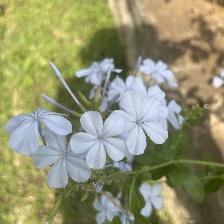chitrak: (69, 110, 131, 171), (5, 104, 74, 156), (35, 127, 93, 186), (114, 92, 167, 156), (90, 189, 125, 224), (137, 180, 166, 219), (80, 57, 115, 86), (139, 56, 176, 83)
